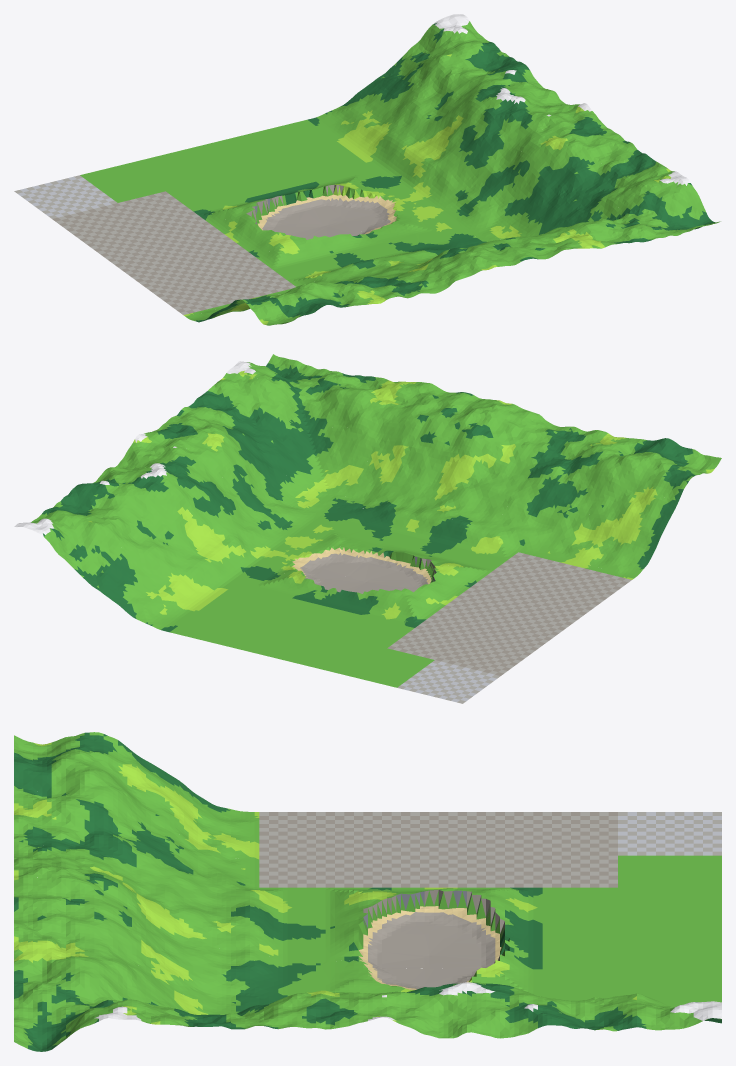
The model's file is Terrain_SE.fbx.
3 views of the same model, one above another, from view 1: azimuth 30°, elevation 25°; view 2: azimuth 150°, elevation 25°; view 3: azimuth 270°, elevation 25° (orthographic). The views are drawn at different scales.
Visible parts, largest first — view 1: Chunk_10_3, Chunk_10_2, Chunk_10_4, Chunk_11_2, Chunk_11_5, Chunk_11_0, Chunk_10_5, Chunk_11_1, Chunk_11_3, Chunk_7_3, Chunk_9_3, Chunk_8_4 (+21 smaller); view 2: Chunk_6_1, Chunk_7_1, Chunk_10_1, Chunk_9_1, Chunk_10_4, Chunk_10_5, Chunk_8_1, Chunk_8_0, Chunk_11_1, Chunk_10_3, Chunk_10_2, Chunk_11_4 (+24 smaller); view 3: Chunk_7_0, Chunk_8_3, Chunk_9_0, Chunk_9_1, Chunk_10_0, Chunk_8_4, Chunk_8_2, Chunk_8_1, Chunk_6_1, Chunk_7_5, Chunk_8_5, Chunk_6_0 (+20 smaller).
Part boxes in pixels (x1,y1,x2,y2): Chunk_10_3: (400,107,516,212); Chunk_10_2: (443,150,560,242); Chunk_10_4: (357,92,473,181); Chunk_11_2: (518,111,635,191); Chunk_11_5: (388,14,505,91); Chunk_11_0: (609,173,720,241); Chunk_10_5: (313,71,430,149); Chunk_11_1: (561,147,678,220); Chunk_11_3: (474,87,592,149); Chunk_7_3: (175,206,292,267); Chunk_9_3: (325,181,442,232); Chunk_8_4: (207,168,324,215); Chunk_6_1: (561,485,678,577); Chunk_7_1: (486,474,603,558); Chunk_10_1: (262,421,379,503); Chunk_9_1: (337,437,453,513); Chunk_10_4: (132,493,249,599); Chunk_10_5: (89,541,206,630); Chunk_8_1: (411,449,528,530); Chunk_8_0: (454,400,571,475); Chunk_11_1: (187,369,304,451); Chunk_10_3: (175,473,292,567); Chunk_10_2: (218,452,335,535); Chunk_11_4: (58,473,174,540); Chunk_7_0: (14,781,131,865); Chunk_8_3: (368,894,485,968); Chunk_9_0: (14,876,131,961); Chunk_9_1: (132,904,249,1009); Chunk_10_0: (14,930,131,1000); Chunk_8_4: (486,895,603,966); Chunk_8_2: (250,898,367,963); Chunk_8_1: (132,866,249,950); Chunk_6_1: (132,751,249,860); Chunk_7_5: (604,861,721,911); Chunk_8_5: (604,911,721,961); Chunk_6_0: (14,732,131,803).
Bounding box in the file's own units: 1500 × 243 × 1500.
Materials: 1 (1 with a texture image).
